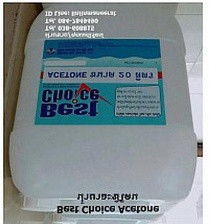cleaning_solution: (6, 2, 199, 218)
